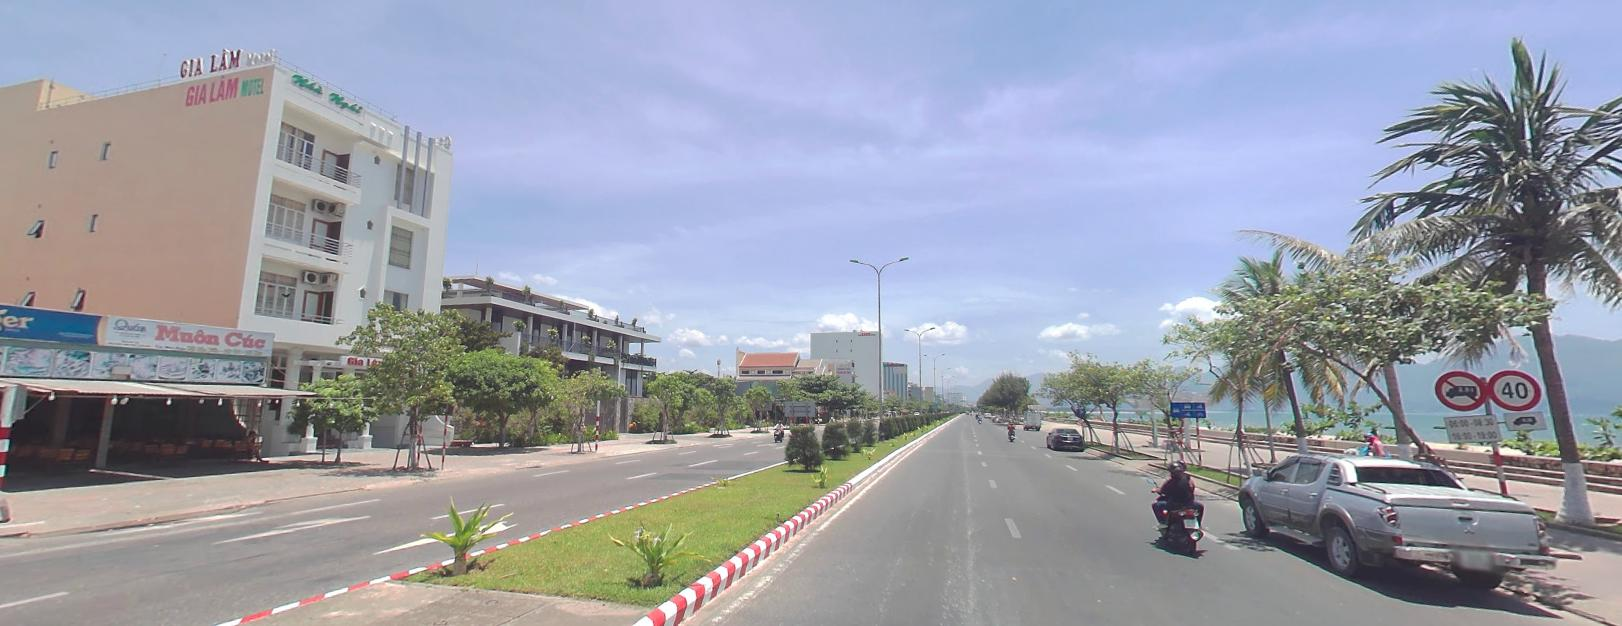Cam con lai: (1429, 365, 1486, 411)
Gioi han toc do: (1486, 364, 1541, 411)
